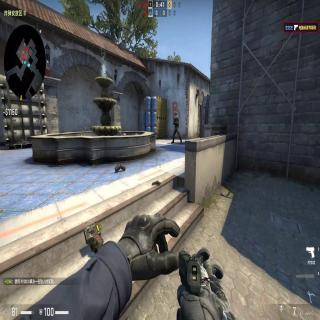T-Body: (170, 112, 182, 144)
T-Head: (175, 112, 178, 119)
